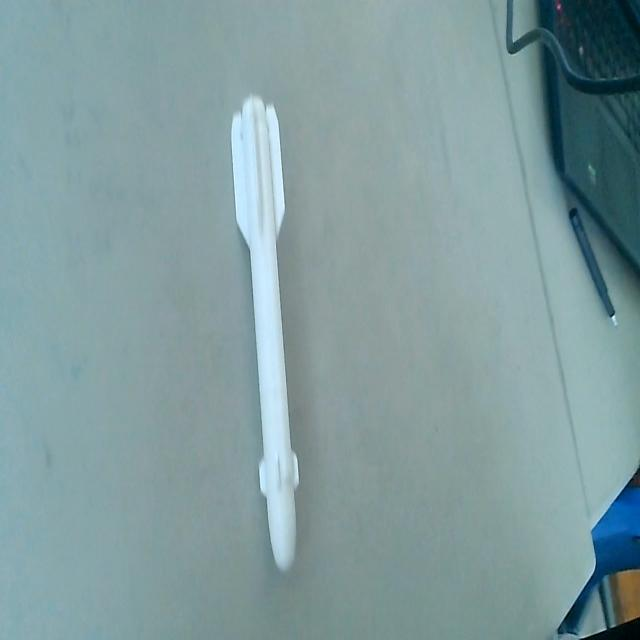Rocket: (230, 94, 302, 576)
